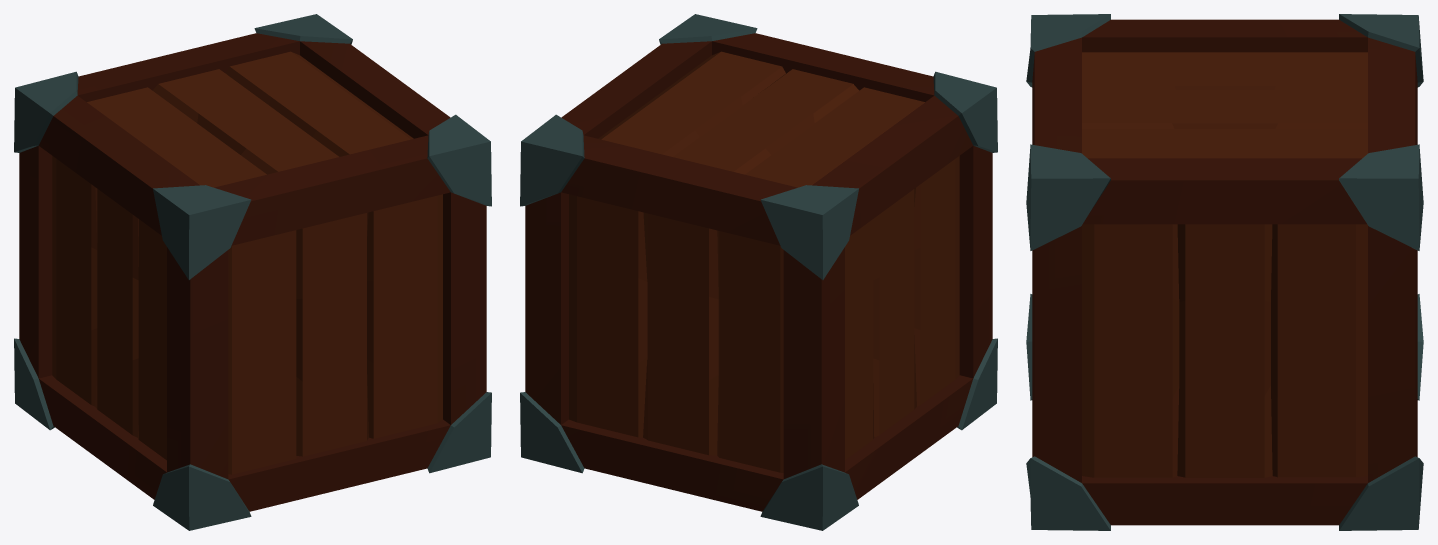
3 views of the same model, side by side, from view 1: azimuth 30°, elevation 25°; view 2: azimuth 150°, elevation 25°; view 3: azimuth 270°, elevation 25° (orthographic). The views are drawn at different scales.
Parts seen in each view (by area): view 1: BOX_1; view 2: BOX_1; view 3: BOX_1.
Part boxes in pixels (x1,y1,x2,y2): BOX_1: (14,14,491,530); BOX_1: (520,14,997,530); BOX_1: (1026,14,1423,530).
Bounding box in the file's own units: 3.08 × 3.08 × 3.08.
